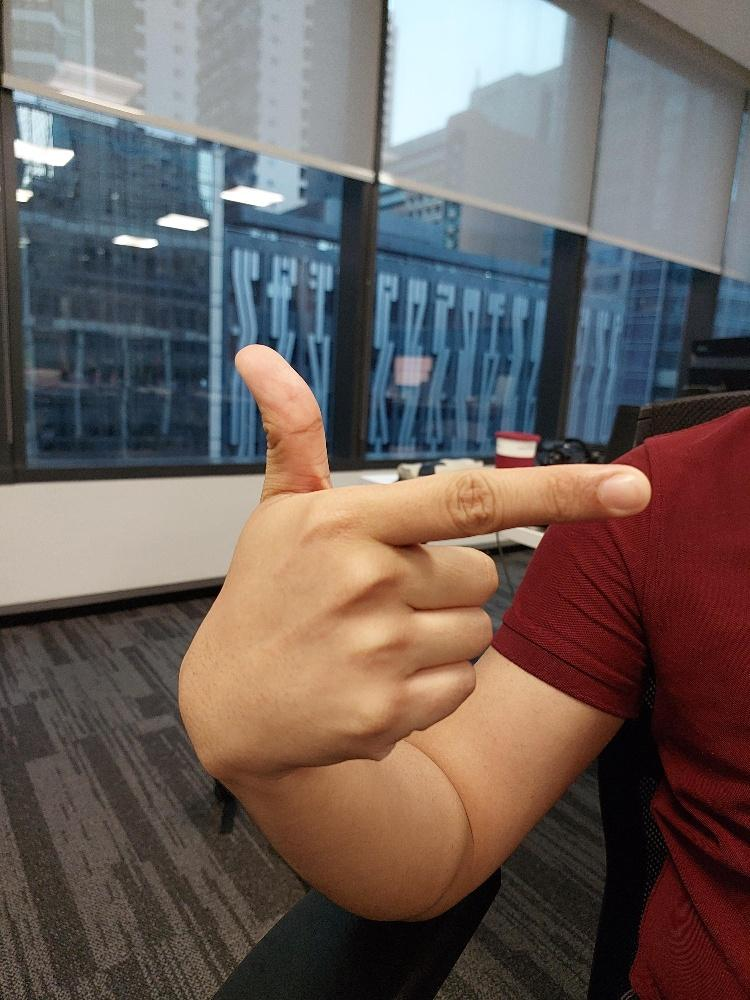g: (170, 339, 654, 780)
